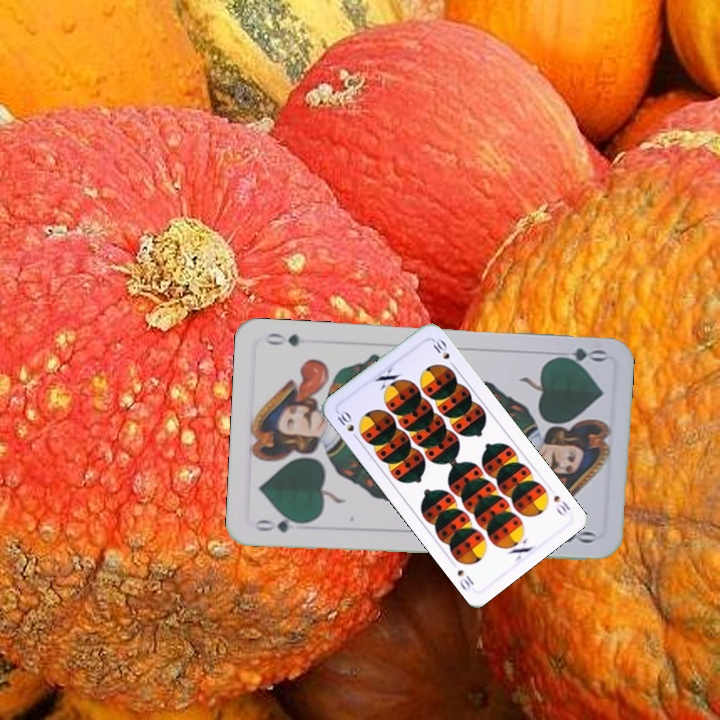GO: (250, 512, 309, 536), (549, 344, 608, 368)
S10: (332, 406, 362, 443), (549, 491, 573, 519)
